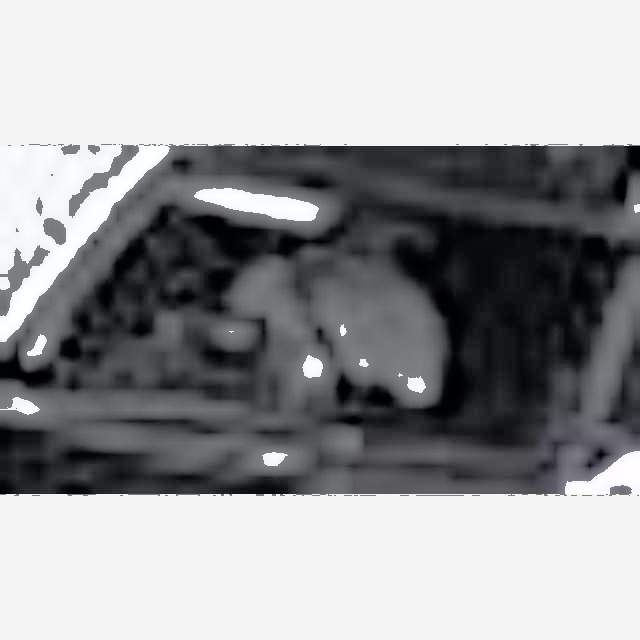pakai: (146, 202, 427, 415)
